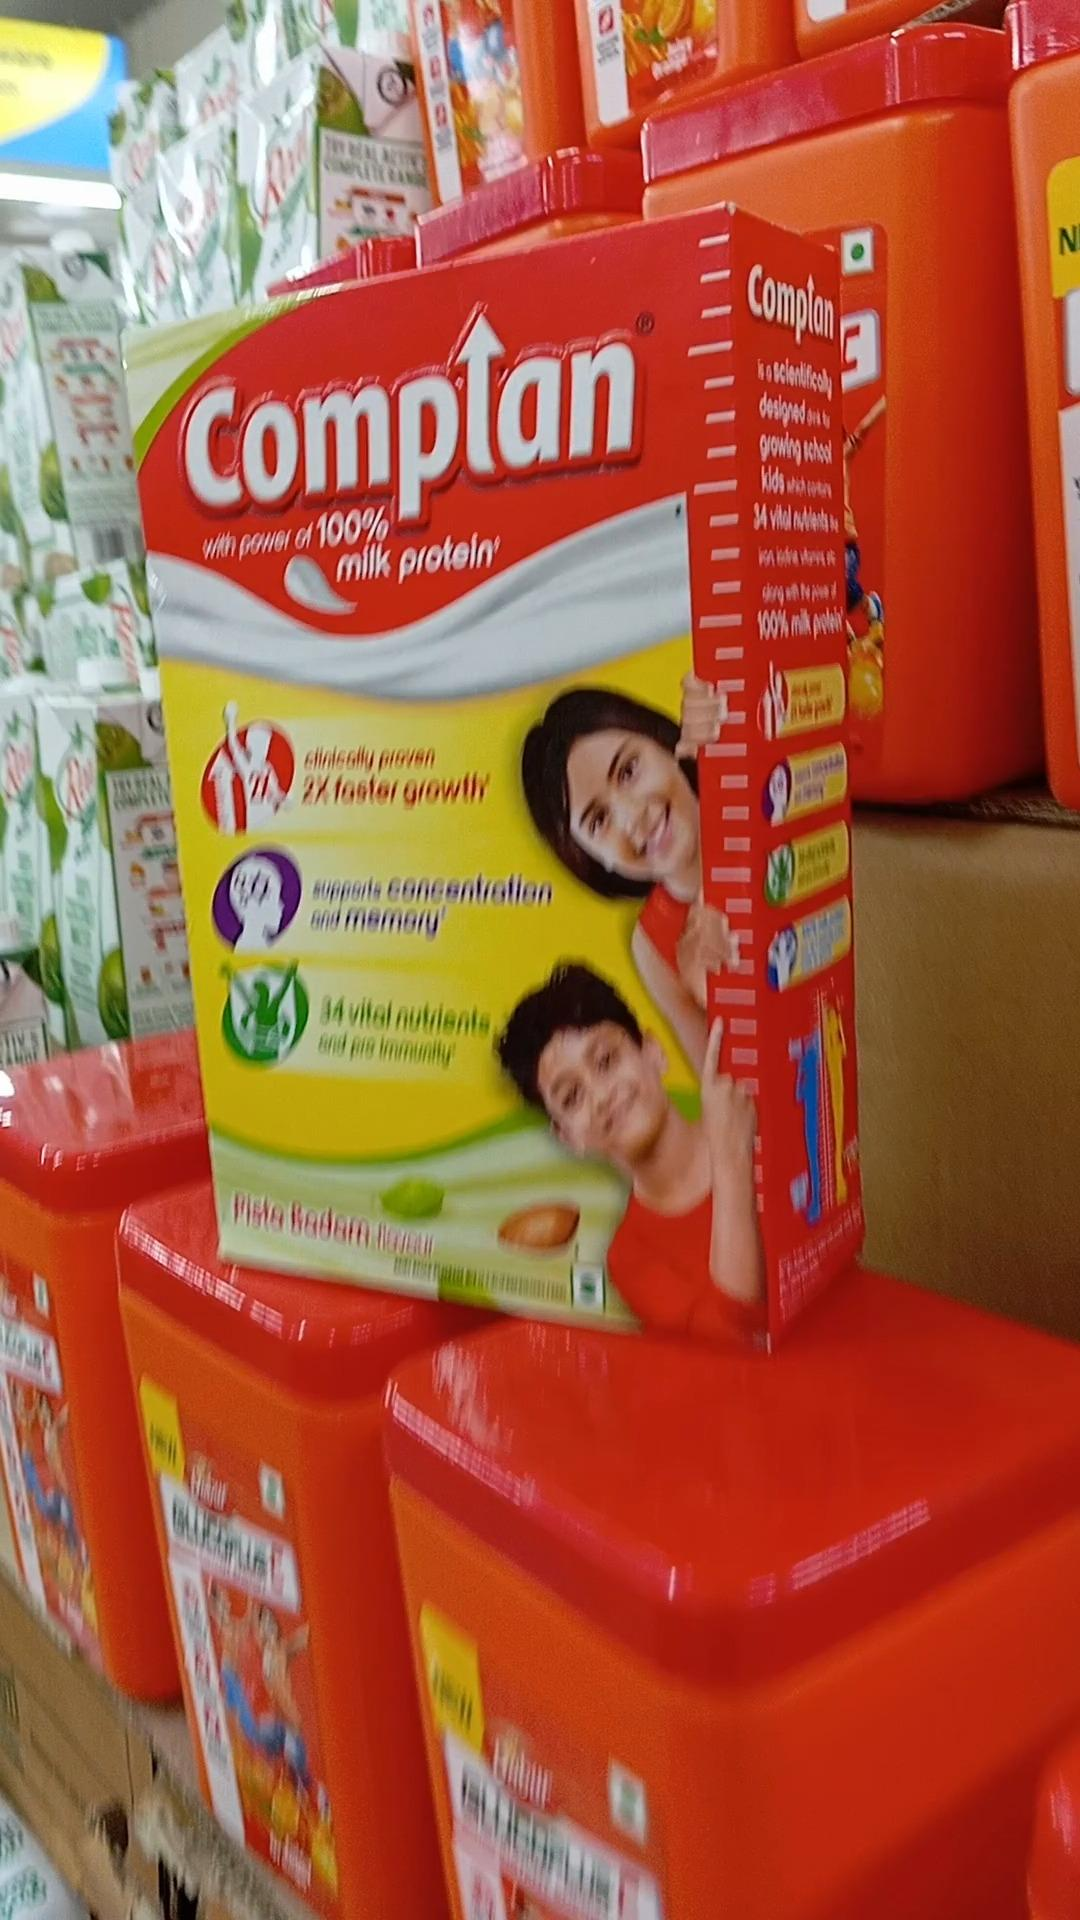COMPLAN_PISTA_BADAM_500_GMS_PACK: (149, 305, 758, 1335)
